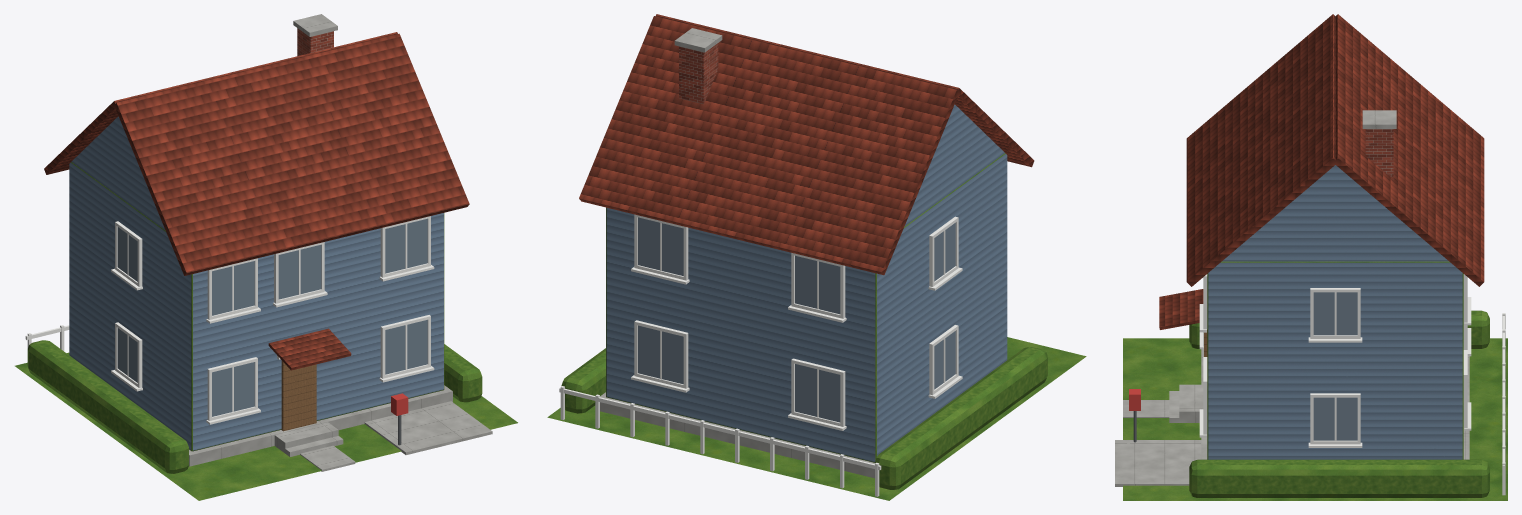
The model's file is house_3.gltf.
3 renders of one model, left to right at view 1: azimuth 30°, elevation 25°; view 2: azimuth 150°, elevation 25°; view 3: azimuth 270°, elevation 25°, orthographic. The views are drawn at different scales.
Parts seen in each view (by area): view 1: house_3; view 2: house_3; view 3: house_3.
Part boxes in pixels (x1=…): house_3: x1=15, y1=14, x2=517, y2=500; house_3: x1=547, y1=14, x2=1086, y2=500; house_3: x1=1115, y1=14, x2=1507, y2=500.
Bounding box in the file's own units: 1.92 × 1.89 × 1.96.
11 materials, 7 textured.
